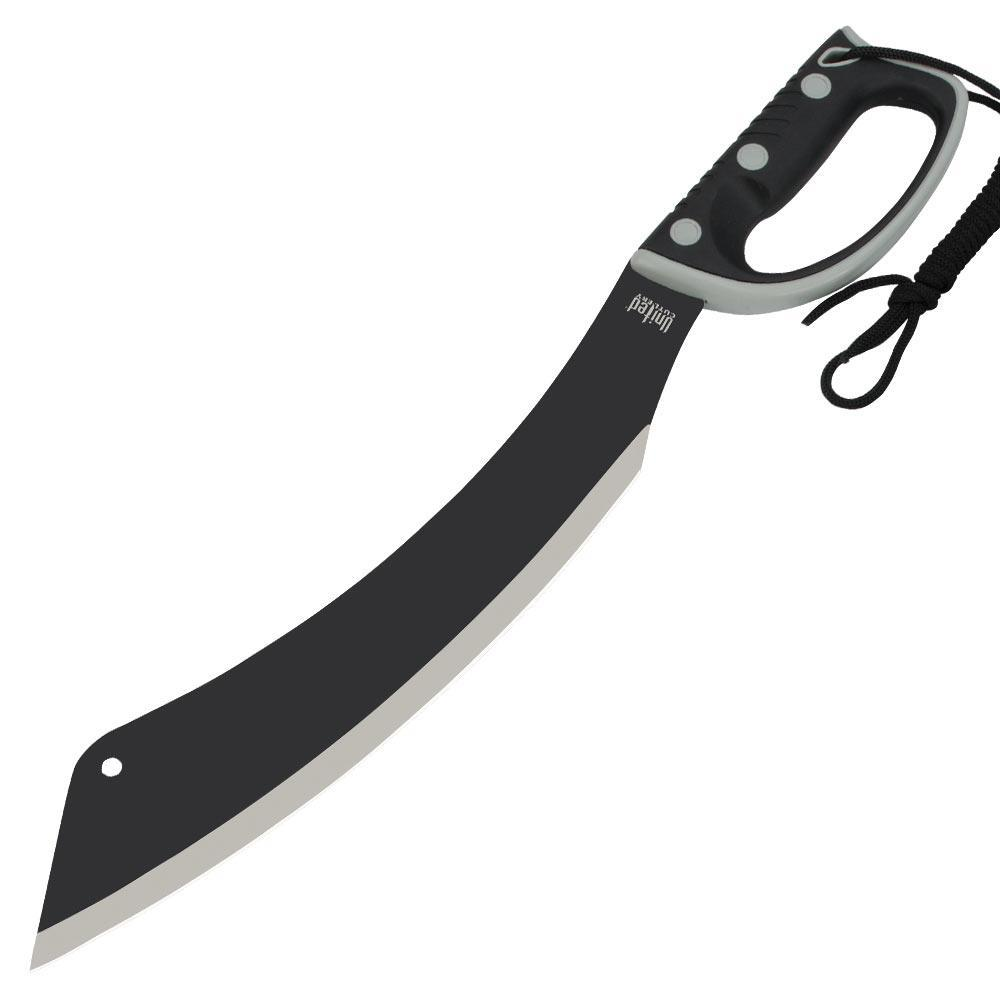facao: (1, 0, 1000, 992)
